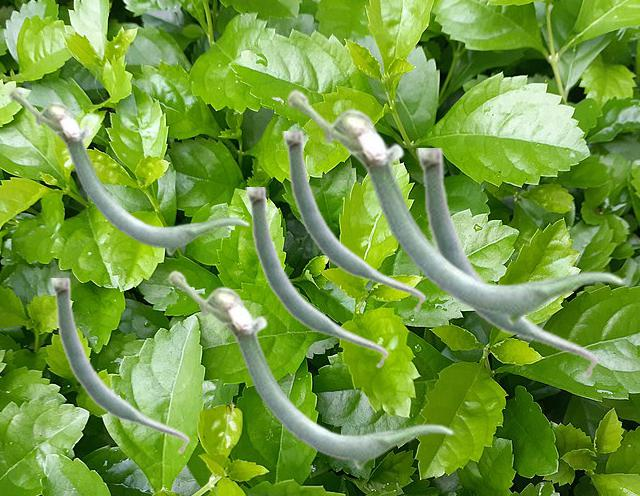french_bean: (286, 88, 623, 325), (167, 269, 453, 469), (416, 148, 598, 379), (8, 86, 248, 255), (245, 187, 388, 368), (282, 131, 425, 312), (50, 278, 189, 454)
